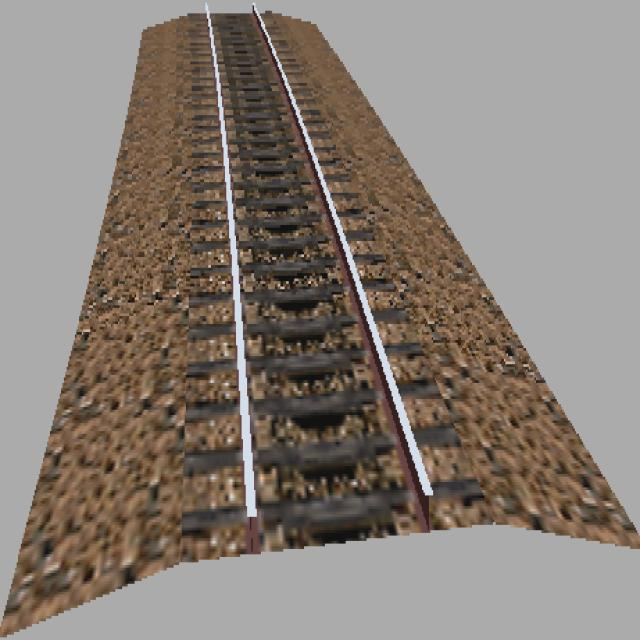Track: (148, 9, 480, 631)
